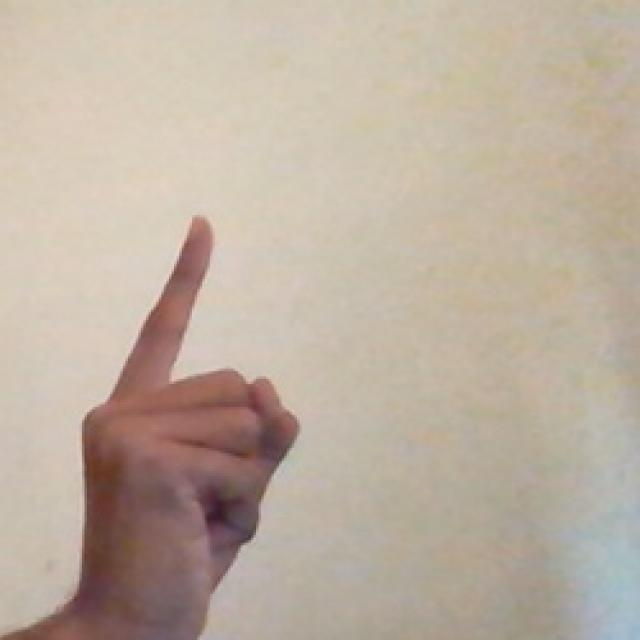Alphabet-I: (80, 136, 386, 640)
